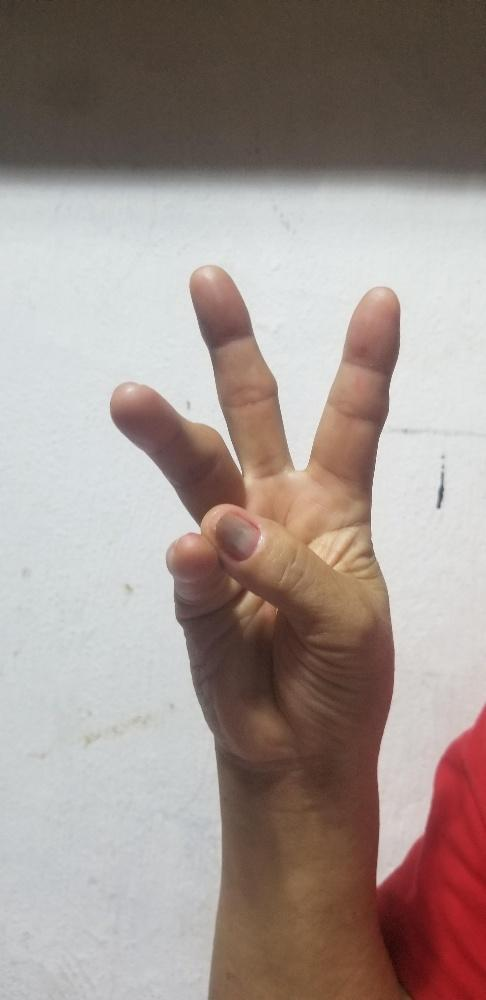w: (109, 263, 398, 678)
